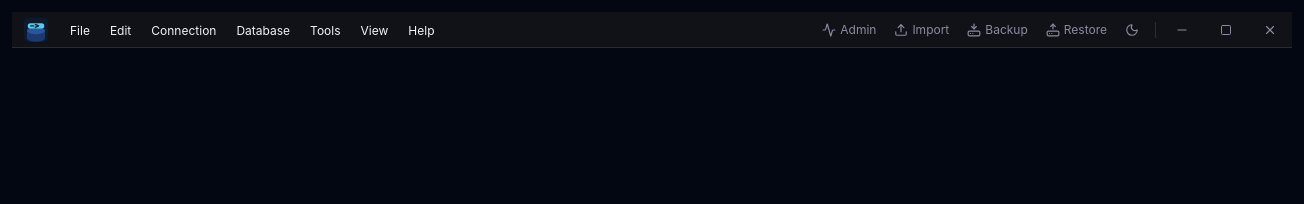
TitleBar › shows system context menu on right click
This screenshot has width=1304, height=204.
Right-click the element that starts with "File".
right_click(652, 30)  # box [12,12,1292,48]
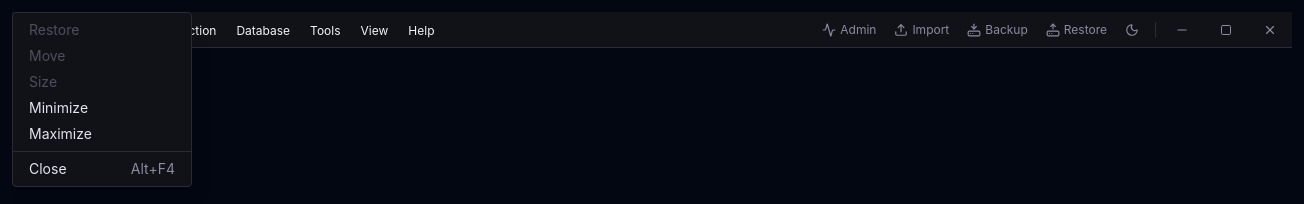
Check: the text "Close" is shown, box [29,159,67,179]
Check: the text "Minimize" is shown, box [29,98,88,118]
